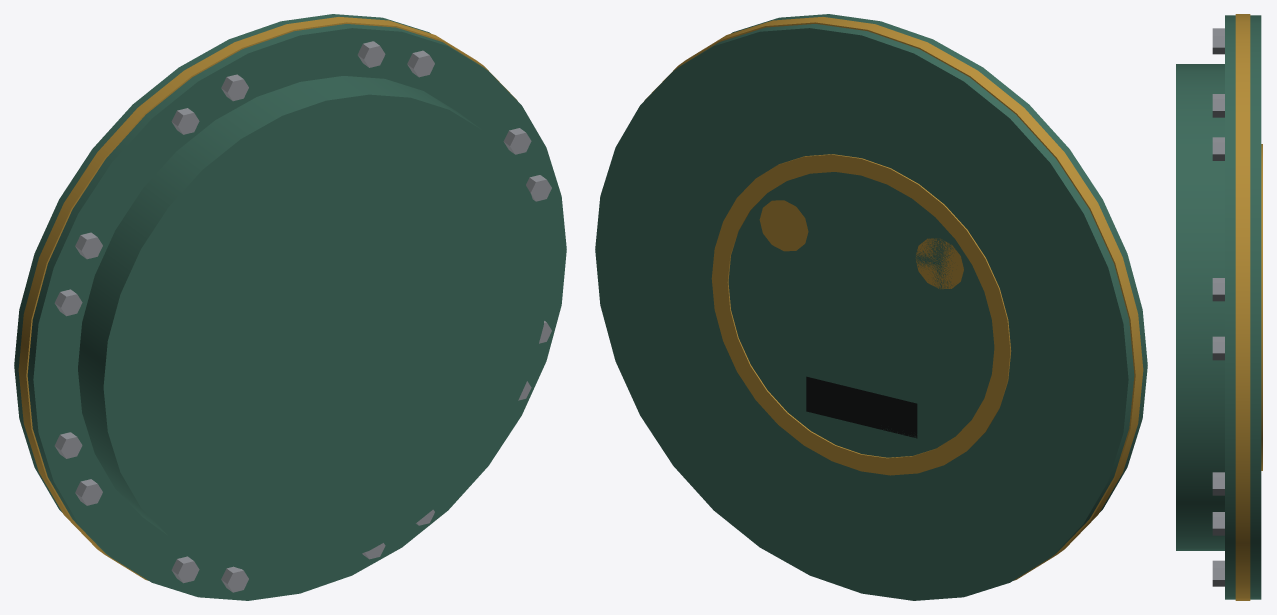
File: h80_flange.obj
3 views of the same model, side by side, from view 1: azimuth 30°, elevation 25°; view 2: azimuth 150°, elevation 25°; view 3: azimuth 270°, elevation 25° (orthographic). The views are drawn at different scales.
Visible parts, largest first — view 1: h80_flange; view 2: h80_flange; view 3: h80_flange.
Boxes of the visible parts, x1,y1,x2,y2 form: h80_flange: (14,14,566,600); h80_flange: (595,14,1147,600); h80_flange: (1176,14,1262,600).
Size of the model in its own units: 2.43 by 2.43 by 0.3588.
